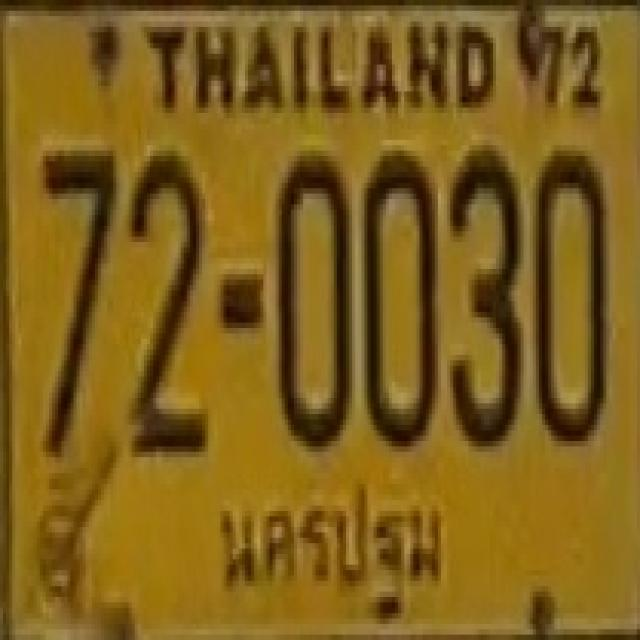0: (274, 148, 348, 444), (361, 145, 435, 441), (531, 145, 605, 436)
2: (126, 148, 202, 449)
3: (447, 145, 518, 441)
7: (40, 145, 113, 452)
NPT: (209, 474, 454, 625)
